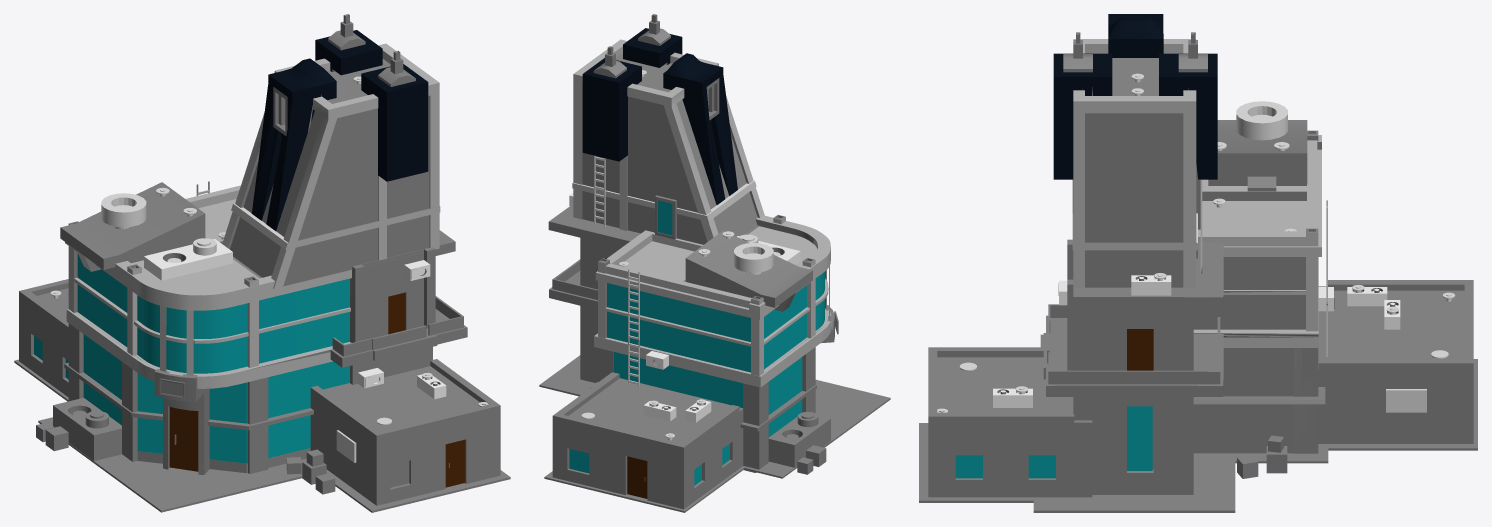
File: plustech.fbx
The picture shows the model from 3 angles, left to right: view 1: azimuth 30°, elevation 25°; view 2: azimuth 150°, elevation 25°; view 3: azimuth 270°, elevation 25°; orthographic projection. The views are drawn at different scales.
Parts seen in each view (by area): view 1: Box043, Box043.004, Box043.009, Box043.008, Box043.007, Box043.001, Box043.006, Box043.002; view 2: Box043, Box043.009, Box043.004, Box043.008, Box043.007, Box043.002, Box043.006, Box043.001; view 3: Box043, Box043.009, Box043.008, Box043.002, Box043.006, Box043.004, Box043.007, Box043.001.
Boxes of the visible parts, x1,y1,x2,y2 form: Box043: (14,14,510,512); Box043.004: (34,253,349,463); Box043.009: (65,43,440,388); Box043.008: (315,30,428,181); Box043.007: (252,58,336,230); Box043.001: (169,292,465,487); Box043.006: (144,239,446,399); Box043.002: (50,76,488,462); Box043: (539,14,890,512); Box043.009: (572,39,831,387); Box043.004: (569,200,824,485); Box043.008: (582,28,682,161); Box043.007: (663,53,737,204); Box043.002: (581,70,780,440); Box043.006: (569,193,800,422); Box043.001: (605,258,647,498); Box043: (919,32,1477,512); Box043.009: (1072,39,1325,404); Box043.008: (1053,53,1217,179); Box043.002: (937,73,1455,412); Box043.006: (993,275,1400,407); Box043.004: (955,406,1152,478); Box043.007: (1108,14,1163,57); Box043.001: (1127,329,1153,370).
Bounding box in the file's own units: 2903 × 3290 × 3695.
